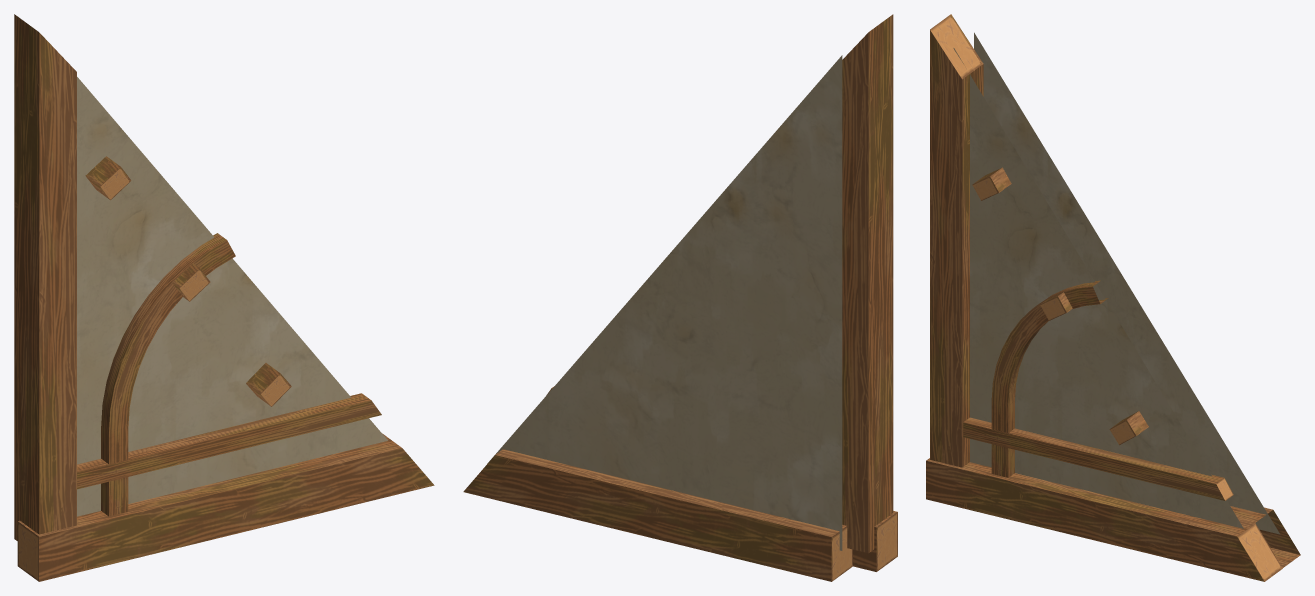
File: Roof_Front_Brick4_Half_R.gltf
3 views of the same model, side by side, from view 1: azimuth 30°, elevation 25°; view 2: azimuth 150°, elevation 25°; view 3: azimuth 330°, elevation 25° (orthographic). The views are drawn at different scales.
Parts seen in each view (by area): view 1: Roof_Front_Brick4_Half_R; view 2: Roof_Front_Brick4_Half_R; view 3: Roof_Front_Brick4_Half_R.
Part boxes in pixels (x1=…): Roof_Front_Brick4_Half_R: x1=14, y1=14, x2=434, y2=581; Roof_Front_Brick4_Half_R: x1=463, y1=14, x2=897, y2=581; Roof_Front_Brick4_Half_R: x1=926, y1=14, x2=1300, y2=581.
Bounding box in the file's own units: 2.42 × 3.2 × 0.4896.
Materials: 2 (2 with a texture image).
